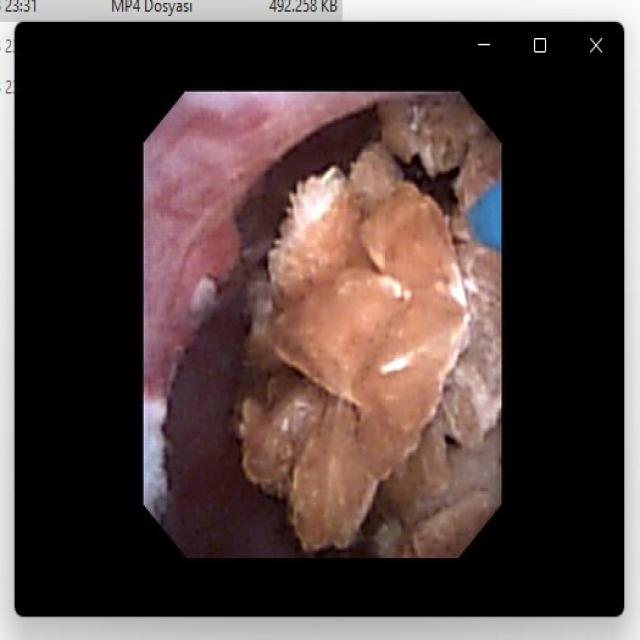fiber: (470, 187, 497, 246)
stone: (239, 102, 497, 553)
